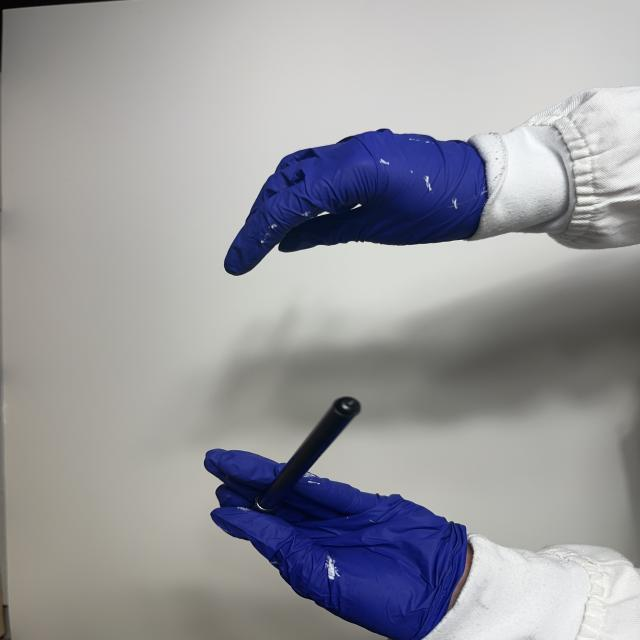gloves_contaminated: (205, 449, 468, 640), (225, 129, 487, 275)
